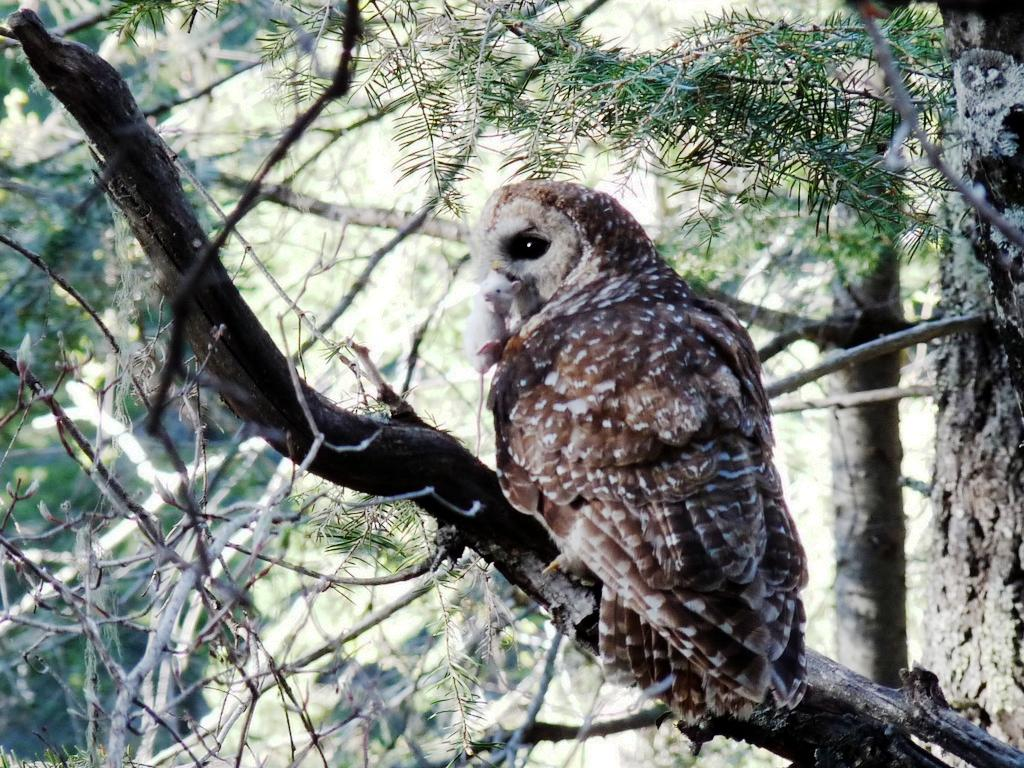Owl: (446, 168, 825, 716)
